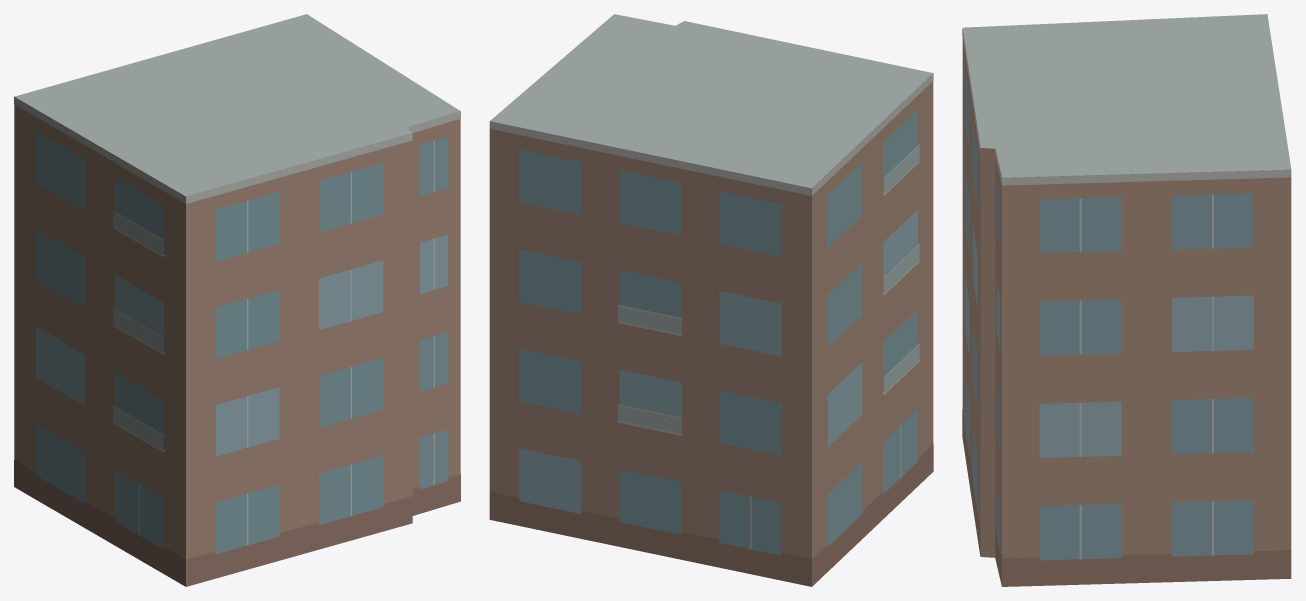
File: survey-upis-32619970.glb
3 renders of one model, left to right at view 1: azimuth 30°, elevation 25°; view 2: azimuth 150°, elevation 25°; view 3: azimuth 270°, elevation 25°, orthographic. The views are drawn at different scales.
Visible parts, largest first — view 1: survey-upis-32619970.tmp; view 2: survey-upis-32619970.tmp; view 3: survey-upis-32619970.tmp.
Part boxes in pixels (x1,y1,x2,y2): survey-upis-32619970.tmp: (14,14,460,586); survey-upis-32619970.tmp: (489,14,933,586); survey-upis-32619970.tmp: (962,14,1291,586).
Bounding box in the file's own units: 11 × 12.8 × 9.34.
